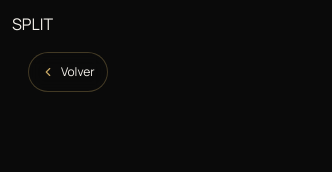
Test case: entrada directa (sin historial de la app): 'Volver' va a la pantalla padre, no fuera de IATOS
Step 1. Click the button "Volver" → click(68, 72), box [28, 52, 108, 92]
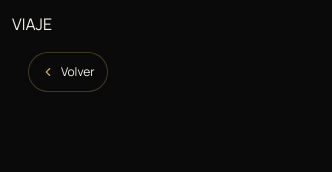
Check: the text "VIAJE" is shown, box [12, 13, 52, 35]
